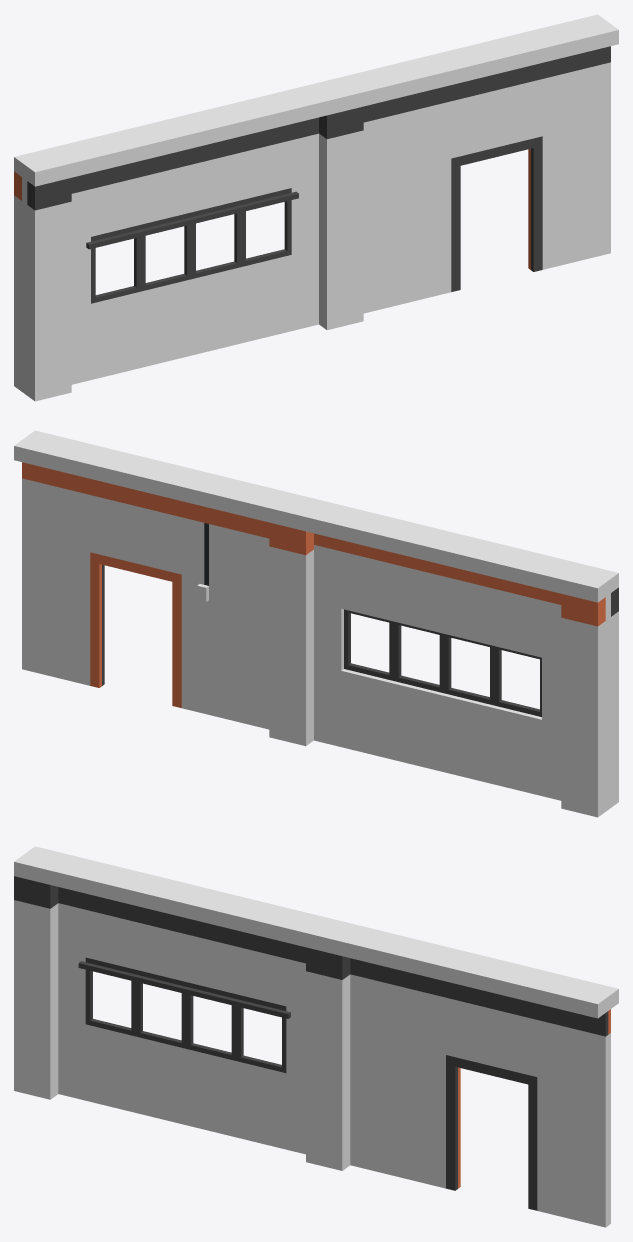
The model's file is penghubung_corridor_lantai_2.obj.
The picture shows the model from 3 angles, top to bottom: view 1: azimuth 30°, elevation 25°; view 2: azimuth 150°, elevation 25°; view 3: azimuth 330°, elevation 25°; orthographic projection.
Bounding box in the file's own units: 12.8 × 4.8 × 0.8.
Materials: 1 (1 with a texture image).
